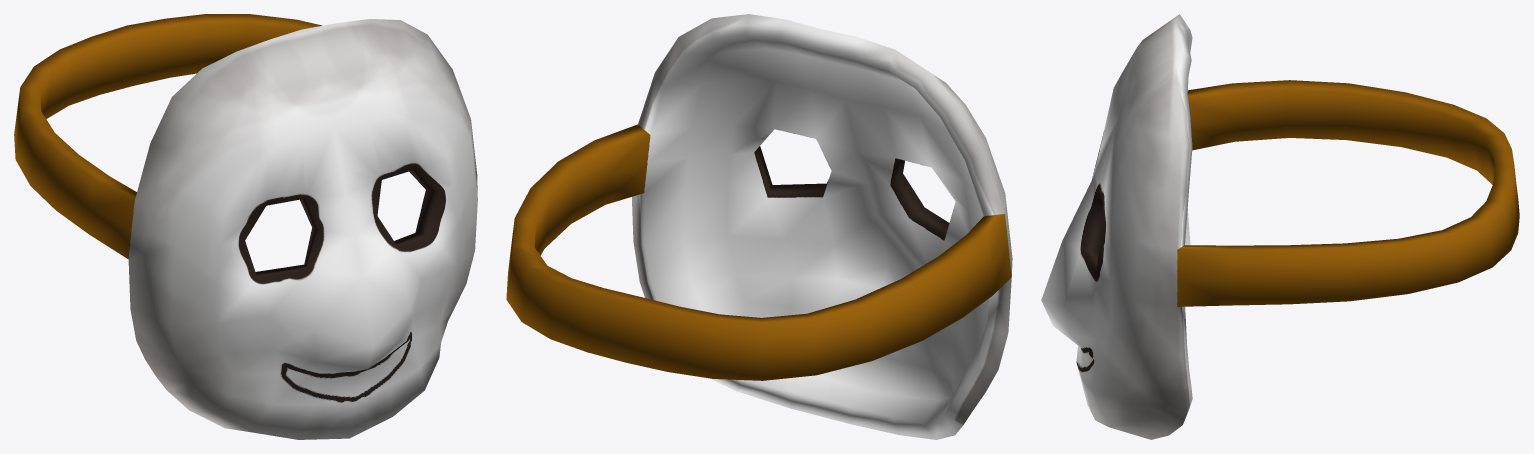
File: maska.fbx
3 renders of one model, left to right at view 1: azimuth 30°, elevation 25°; view 2: azimuth 150°, elevation 25°; view 3: azimuth 270°, elevation 25°, orthographic. The views are drawn at different scales.
Parts seen in each view (by area): view 1: Cube.001; view 2: Cube.001; view 3: Cube.001.
Part boxes in pixels (x1,y1,x2,y2): Cube.001: (14,14,477,439); Cube.001: (506,14,1012,439); Cube.001: (1041,14,1519,439).
Bounding box in the file's own units: 47.85 × 46.61 × 54.89.
